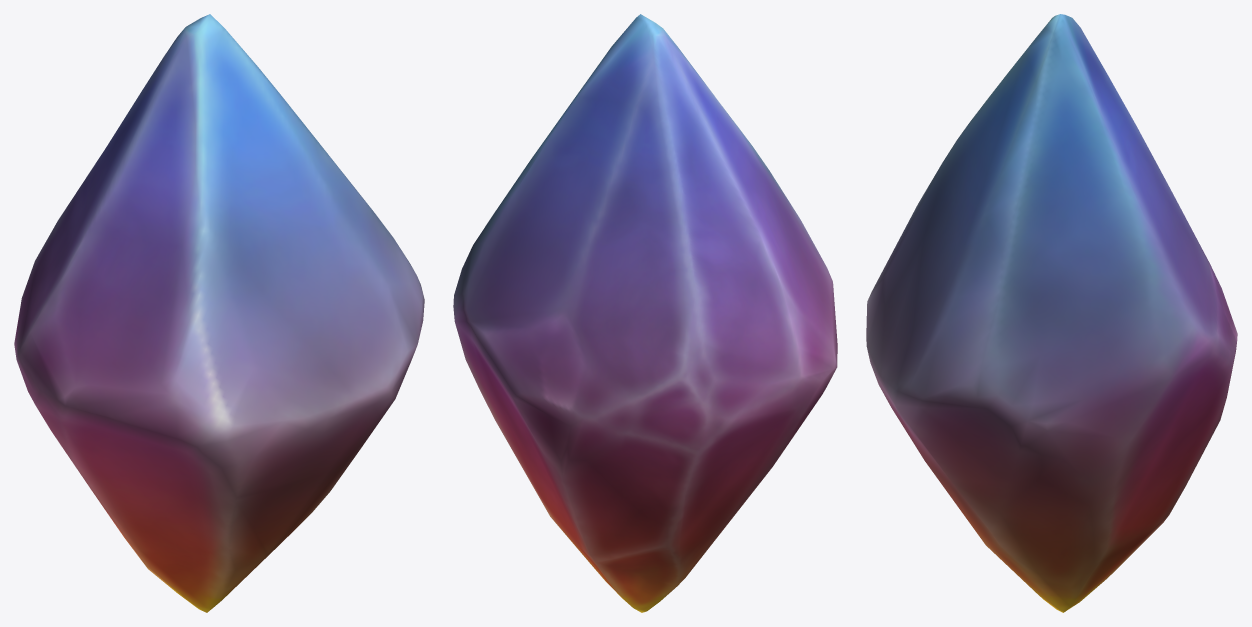
File: SM_TowerDefense_Crystal_Crystal_Small.fbx
The picture shows the model from 3 angles, left to right: view 1: azimuth 30°, elevation 25°; view 2: azimuth 150°, elevation 25°; view 3: azimuth 270°, elevation 25°; orthographic projection.
Parts seen in each view (by area): view 1: SM_TowerDefense_Crystal_Crystal_Small; view 2: SM_TowerDefense_Crystal_Crystal_Small; view 3: SM_TowerDefense_Crystal_Crystal_Small.
Part boxes in pixels (x1,y1,x2,y2): SM_TowerDefense_Crystal_Crystal_Small: (14,14,424,612); SM_TowerDefense_Crystal_Crystal_Small: (453,14,837,612); SM_TowerDefense_Crystal_Crystal_Small: (866,14,1237,612).
Size of the model in its own units: 223 by 356 by 200.
